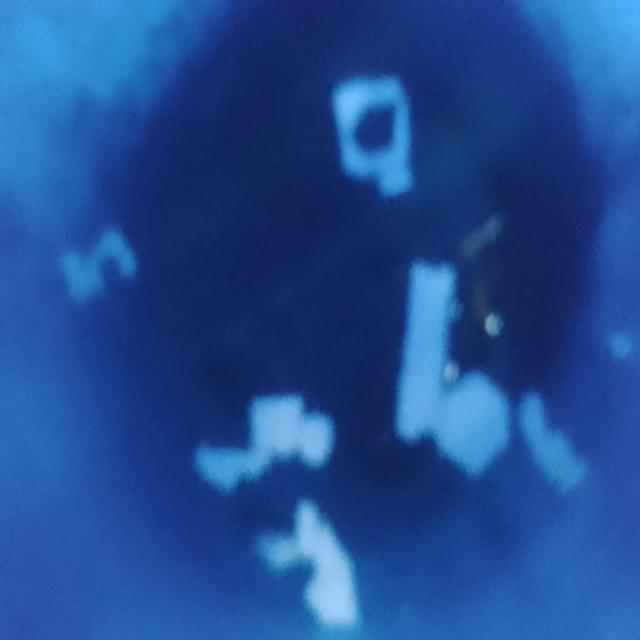thermocoal: (383, 238, 518, 478), (191, 357, 341, 497), (254, 491, 374, 638), (326, 67, 425, 206), (47, 215, 151, 322), (511, 381, 594, 510), (604, 311, 640, 378)
